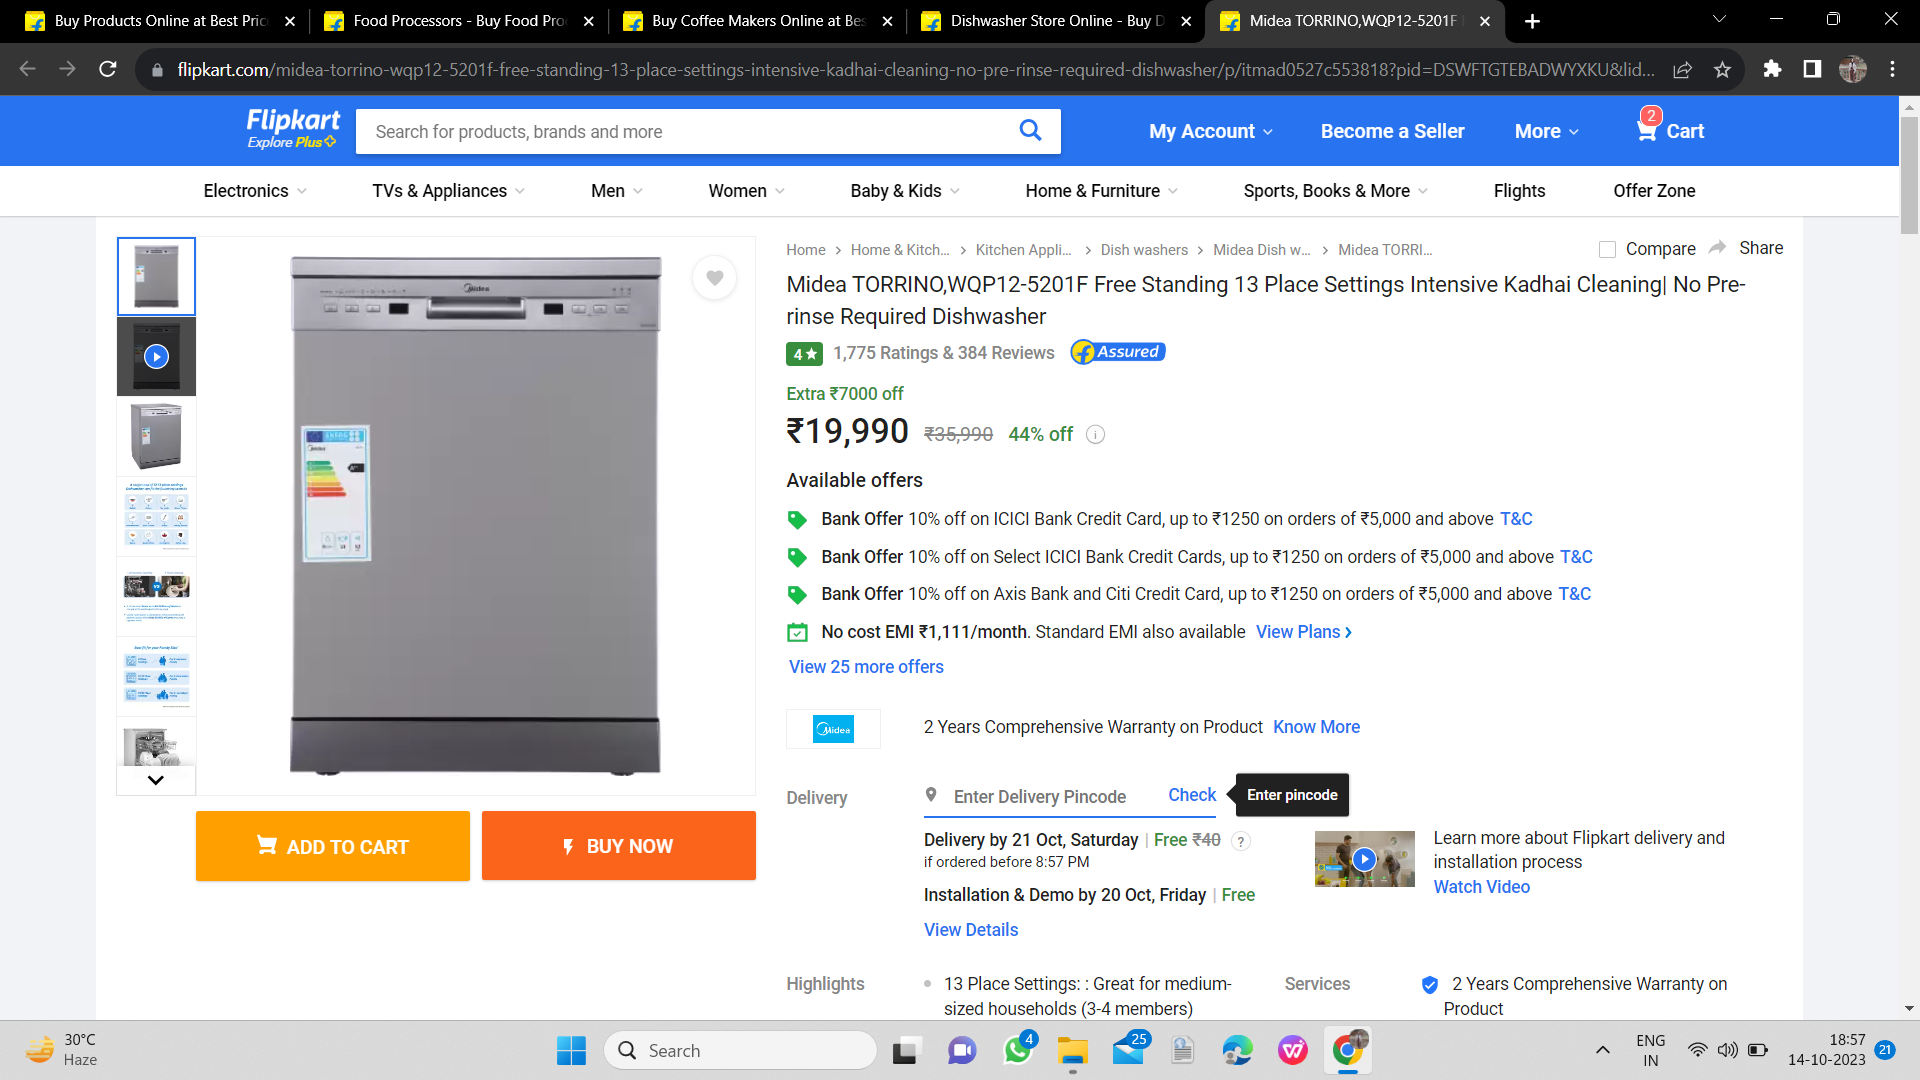Image: (214, 245, 757, 787)
Paragraph: (783, 773, 1737, 945), (783, 506, 1604, 678), (770, 265, 1764, 332), (186, 800, 766, 891), (1141, 98, 1713, 157), (1266, 964, 1763, 1018), (794, 715, 1370, 760), (770, 971, 1245, 1021), (781, 380, 1113, 448), (770, 332, 1188, 376), (777, 458, 930, 501)
